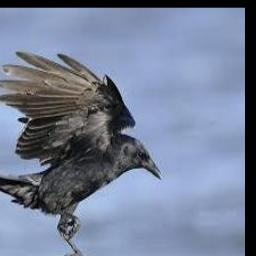Crow: (0, 51, 163, 256)
